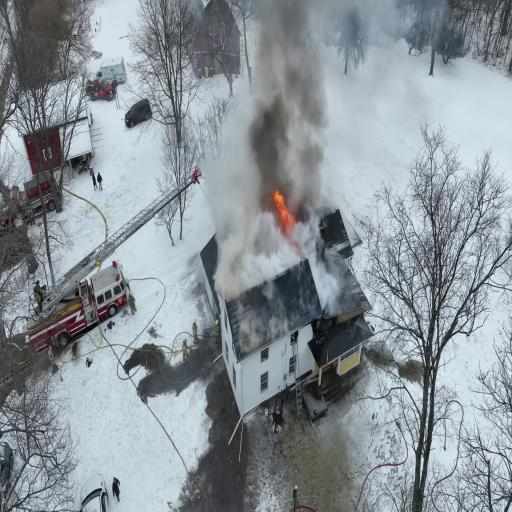fire: (270, 193, 301, 244)
smoke: (256, 69, 312, 166)
